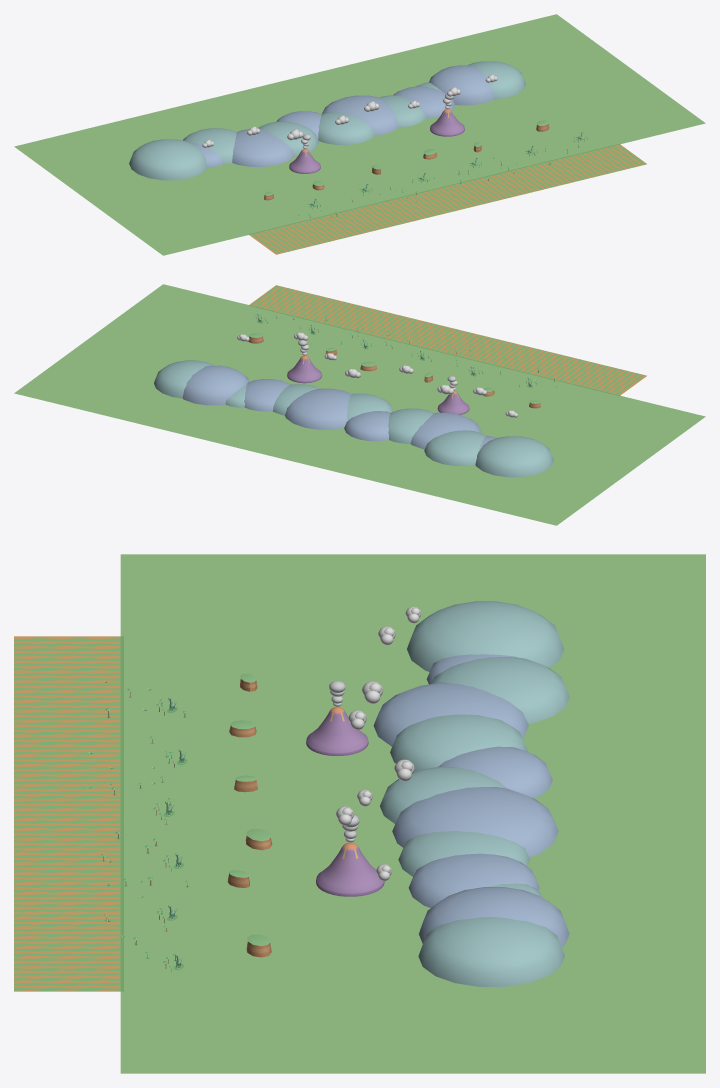
Rendered from dino-far.glb.
3 views of the same model, one above another, from view 1: azimuth 30°, elevation 25°; view 2: azimuth 150°, elevation 25°; view 3: azimuth 270°, elevation 25° (orthographic). The views are drawn at different scales.
Visible parts, largest first — view 1: dino-far; view 2: dino-far; view 3: dino-far.
Part boxes in pixels (x1,y1,x2,y2): dino-far: (14,14,705,255); dino-far: (14,284,705,525); dino-far: (14,554,705,1073).
Bounding box in the file's own units: 1900 × 138 × 1070.
